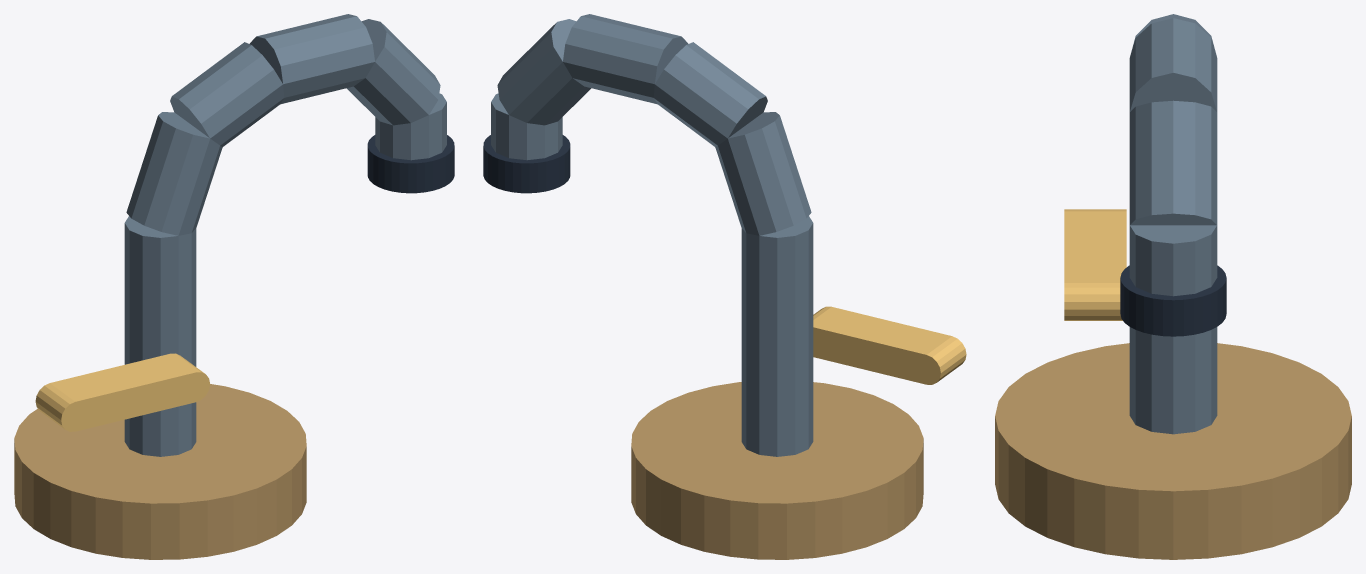
Rendered from faucet.glb.
3 views of the same model, side by side, from view 1: azimuth 30°, elevation 25°; view 2: azimuth 150°, elevation 25°; view 3: azimuth 270°, elevation 25° (orthographic). The views are drawn at different scales.
Visible parts, largest first — view 1: base, pipe0, lever, pipe1, pipe3, pipe2, pipe4, outlet, pipe5; view 2: base, pipe0, lever, pipe1, pipe3, pipe2, pipe4, outlet, pipe5; view 3: base, pipe4, pipe0, pipe3, lever, pipe5, outlet.
Part boxes in pixels (x1,y1,x2,y2): base: [14, 384, 306, 559]; pipe0: [124, 216, 196, 456]; lever: [35, 353, 209, 431]; pipe1: [126, 112, 222, 235]; pipe3: [249, 14, 374, 104]; pipe2: [170, 42, 284, 146]; pipe4: [347, 19, 440, 125]; outlet: [367, 135, 454, 193]; pipe5: [375, 93, 446, 160]; base: [631, 382, 923, 559]; pipe0: [741, 216, 813, 456]; lever: [813, 306, 966, 384]; pipe1: [715, 112, 811, 235]; pipe3: [563, 14, 688, 104]; pipe2: [653, 42, 767, 146]; pipe4: [497, 19, 590, 125]; outlet: [483, 135, 570, 193]; pipe5: [491, 93, 562, 160]; base: [995, 343, 1351, 559]; pipe4: [1129, 100, 1217, 225]; pipe0: [1129, 327, 1217, 434]; pipe3: [1129, 18, 1217, 111]; lever: [1064, 209, 1126, 320]; pipe5: [1129, 225, 1217, 296]; outlet: [1120, 265, 1226, 336].
Bounding box in the file's own units: 1.36 × 1.31 × 0.8.
